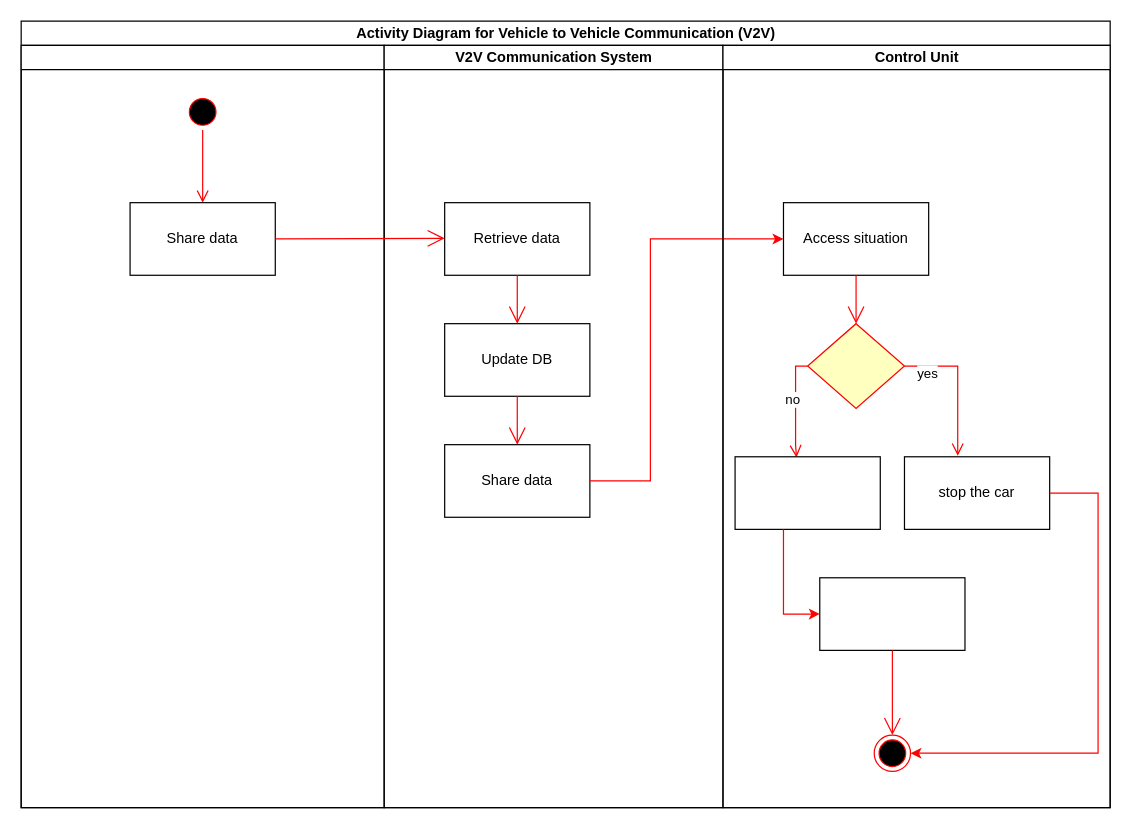
Some shapes in this 1131 by 829 pixel diagram are drawn without their labels. The shapes that lost their labels are listed below. From the top down, each one's box as (x1, y1, x2, y2) in pixels, then its label:
(806, 322, 904, 408): Need to stop
(20, 44, 384, 808): Other Vehicles
(734, 456, 880, 529): Adjust speed and direction
(819, 577, 965, 650): Continue journey
